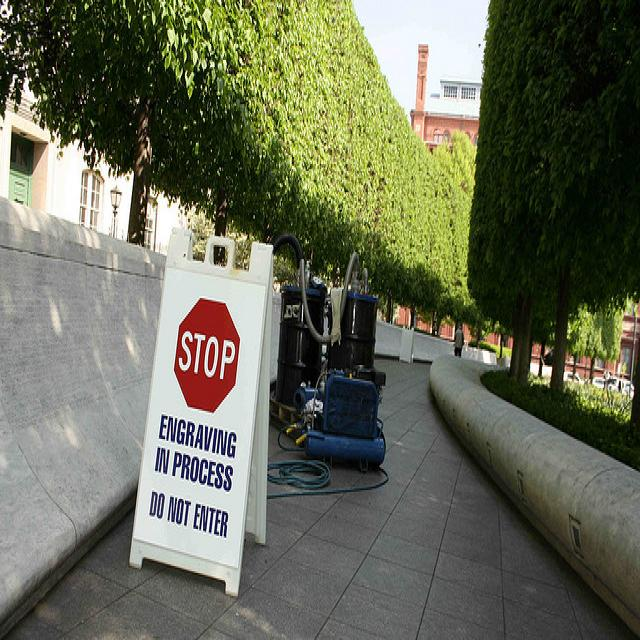Vehicle: (608, 376, 634, 397), (591, 376, 605, 390), (563, 373, 581, 382)
